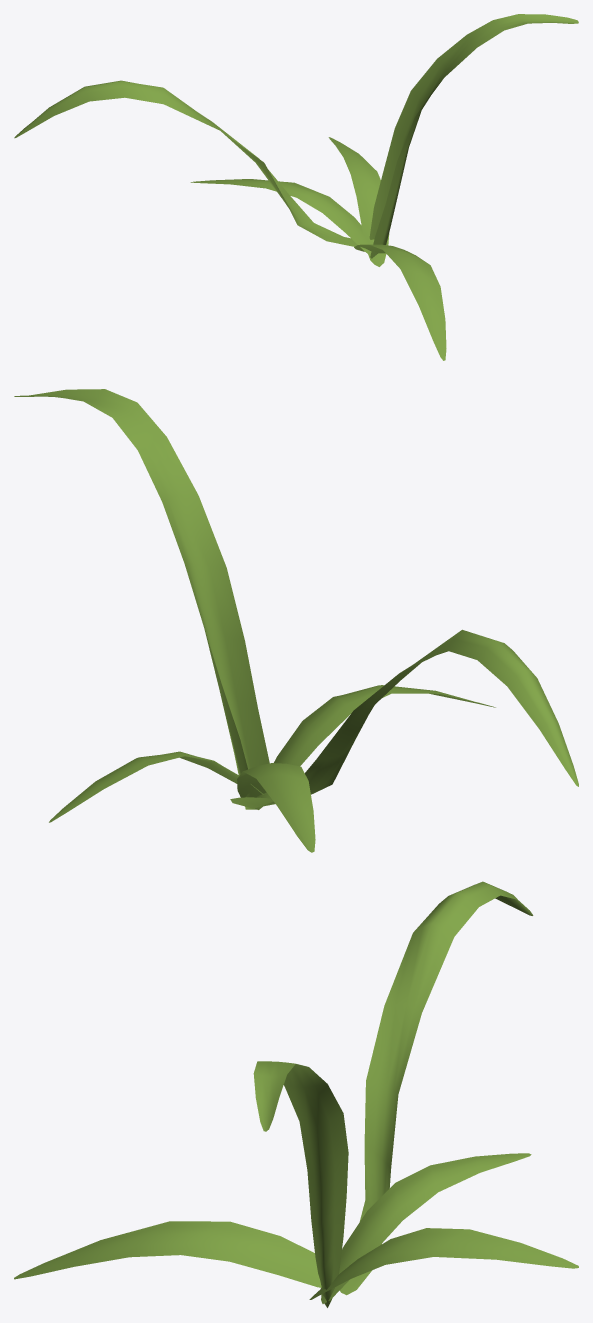
File: object_GEO-leaf_grass_008.glb
3 renders of one model, top to bottom at view 1: azimuth 30°, elevation 25°; view 2: azimuth 150°, elevation 25°; view 3: azimuth 270°, elevation 25°, orthographic. The views are drawn at different scales.
Visible parts, largest first — view 1: GEO-leaf.grass.008; view 2: GEO-leaf.grass.008; view 3: GEO-leaf.grass.008.
Part boxes in pixels (<box>): GEO-leaf.grass.008: <box>14,14,578,360</box>; GEO-leaf.grass.008: <box>14,389,578,852</box>; GEO-leaf.grass.008: <box>14,881,578,1307</box>.
Size of the model in its own units: 0.2275 by 0.1077 by 0.172.
